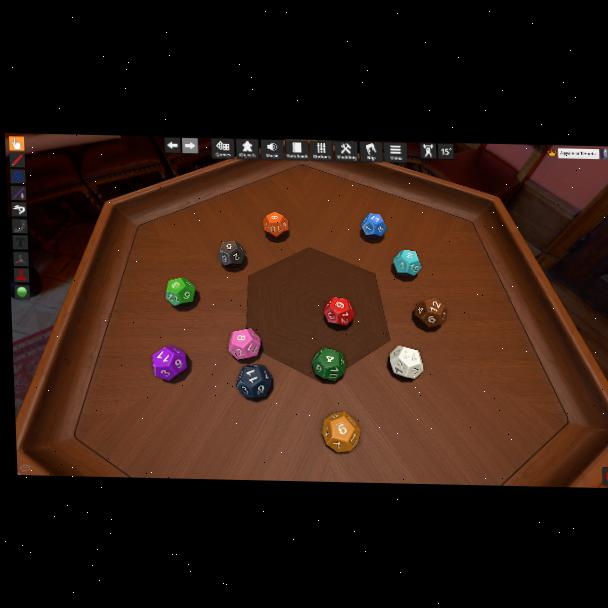d12: (322, 411, 361, 453), (235, 364, 273, 401), (152, 346, 188, 381), (388, 344, 422, 379), (226, 328, 261, 360), (313, 347, 345, 381), (165, 276, 197, 307), (414, 298, 445, 328), (322, 297, 352, 327), (218, 241, 245, 269), (393, 250, 420, 276), (360, 213, 386, 239), (263, 212, 288, 238)
